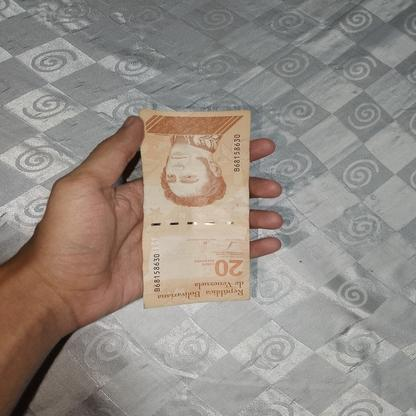twenty-front-vef: (140, 110, 251, 308)
